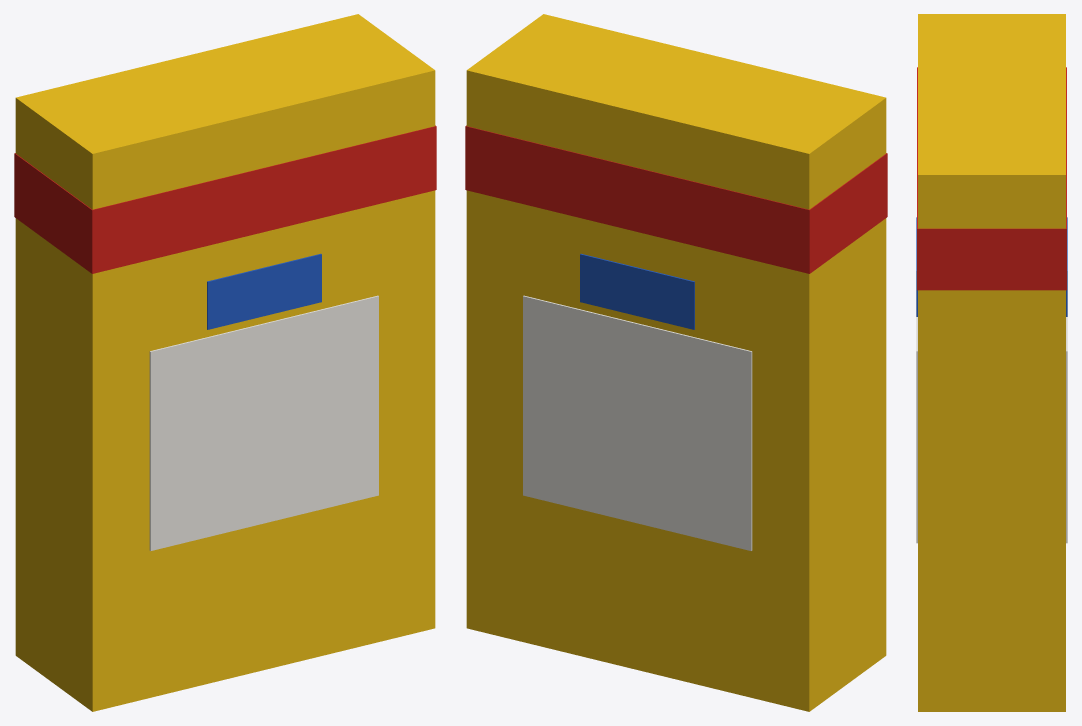
The model's file is inflatable_cereal.glb.
3 renders of one model, left to right at view 1: azimuth 30°, elevation 25°; view 2: azimuth 150°, elevation 25°; view 3: azimuth 270°, elevation 25°, orthographic. The views are drawn at different scales.
Visible parts, largest first — view 1: vinyl_yellow, vinyl_white, vinyl_red, vinyl_blue; view 2: vinyl_yellow, vinyl_white, vinyl_red, vinyl_blue; view 3: vinyl_yellow, vinyl_red, vinyl_white.
Boxes of the visible parts, <box> form: vinyl_yellow: <box>15,14,435,711</box>; vinyl_white: <box>149,295,378,550</box>; vinyl_red: <box>14,125,436,273</box>; vinyl_blue: <box>207,253,321,329</box>; vinyl_yellow: <box>466,14,886,711</box>; vinyl_white: <box>523,295,752,550</box>; vinyl_red: <box>465,125,887,273</box>; vinyl_blue: <box>580,253,694,329</box>; vinyl_yellow: <box>918,14,1065,711</box>; vinyl_red: <box>917,67,1066,290</box>; vinyl_white: <box>916,317,1067,543</box>.
Size of the model in its own units: 0.904 by 1.4 by 0.358.
